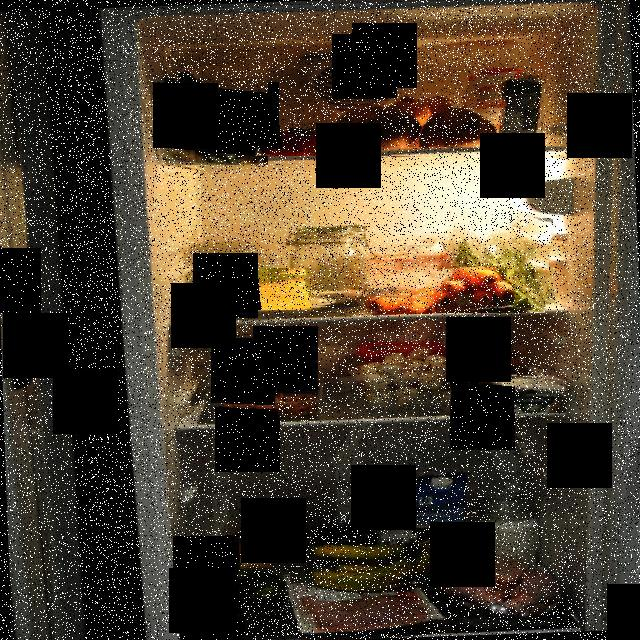apple: (196, 268, 312, 304)
banana: (316, 534, 438, 594)
blueberries: (314, 514, 381, 548)
butter: (354, 335, 452, 371)
carrot: (434, 266, 514, 312), (362, 288, 434, 314)
cheese: (225, 272, 311, 310)
chicken: (431, 542, 570, 620)
corn: (472, 352, 518, 388)
flour: (280, 221, 372, 307), (360, 236, 454, 296)
goat_cheese: (486, 374, 568, 414)
green_beans: (436, 210, 553, 313)
ham: (303, 584, 428, 632)
heavy_cream: (502, 76, 550, 152)
lime: (191, 570, 291, 624)
milk: (412, 468, 478, 572)
mushrooms: (348, 348, 480, 411)
onion: (382, 94, 458, 128)
potato: (218, 516, 312, 576)
shrimp: (216, 387, 324, 418)
spinach: (152, 48, 268, 165)
strawberries: (214, 346, 310, 390)
sugar: (462, 68, 526, 152), (472, 490, 540, 562)
sweet_potato: (326, 101, 507, 158)
tomato: (251, 118, 353, 156)
